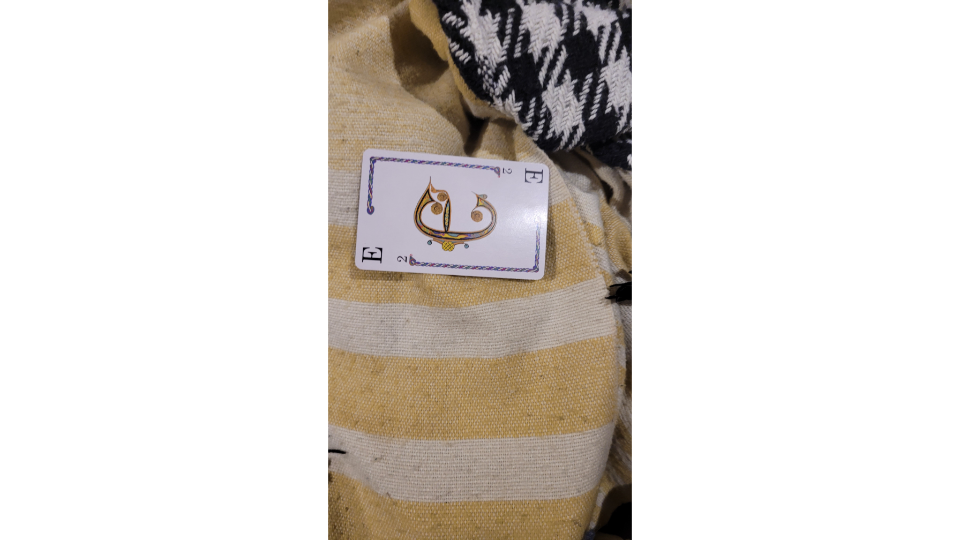E: (353, 145, 553, 283)
